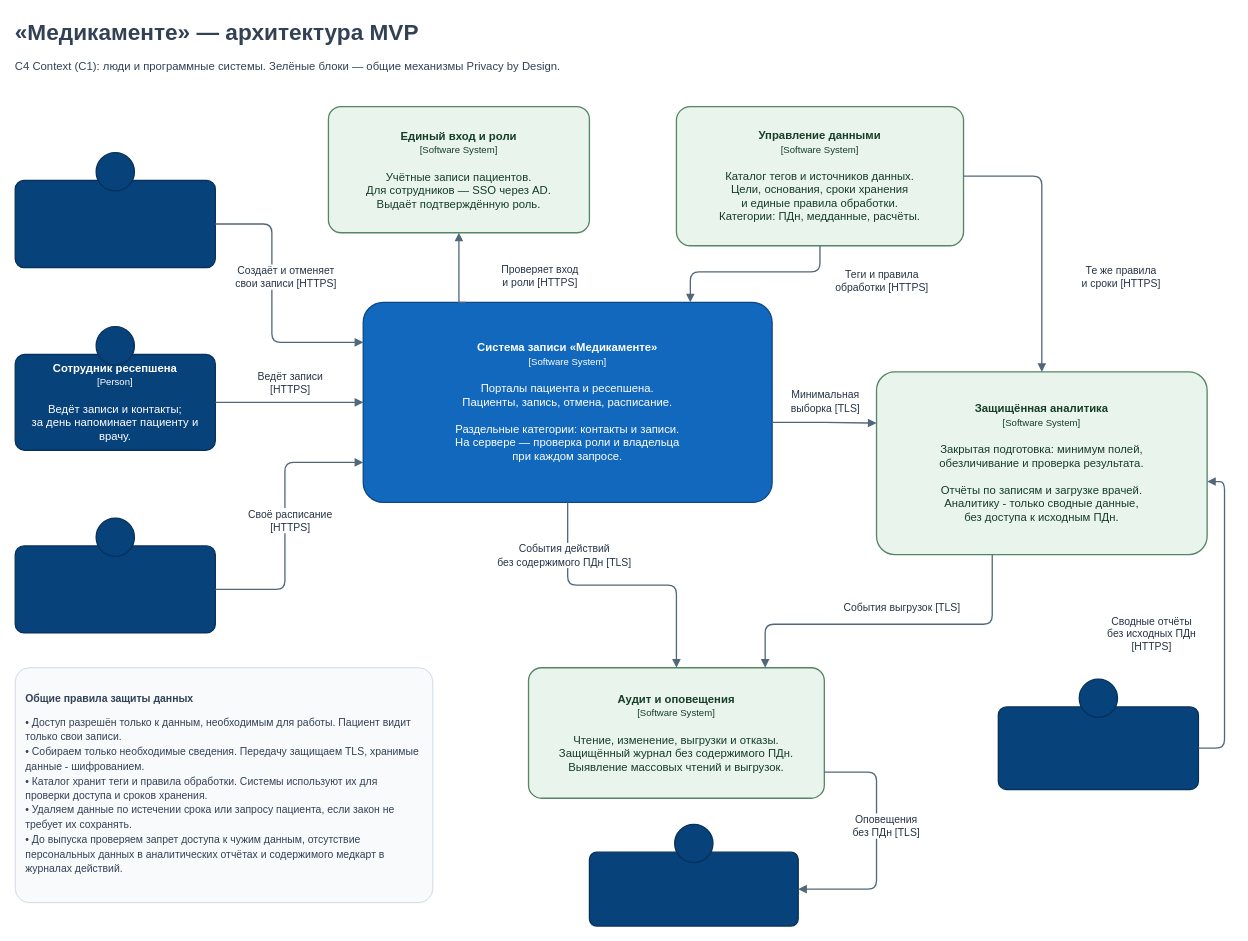
The diagram is 1248 pixels wide and 941 high, and some of its shapes have lost their labels. Here are the shapes that lost their labels. From the top down, the box of each, then its label:
(14, 179, 216, 268): Пациент [Person] Самостоятельно записывается и отменяет свой приём.
(14, 545, 216, 633): Врач [Person] Просматривает своё расписание.
(997, 706, 1199, 790): Бизнес-аналитик [Person] Работает со сводными отчётами.
(588, 851, 798, 926): Уполномоченный сотрудник IT [Person] Получает сигналы о нарушениях.
